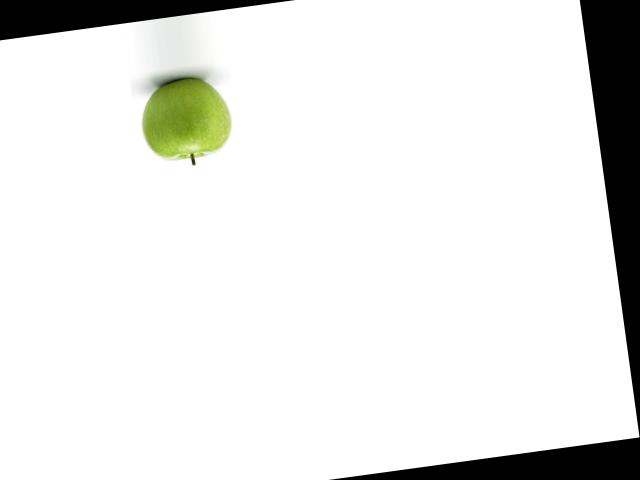apple: (131, 69, 238, 171)
